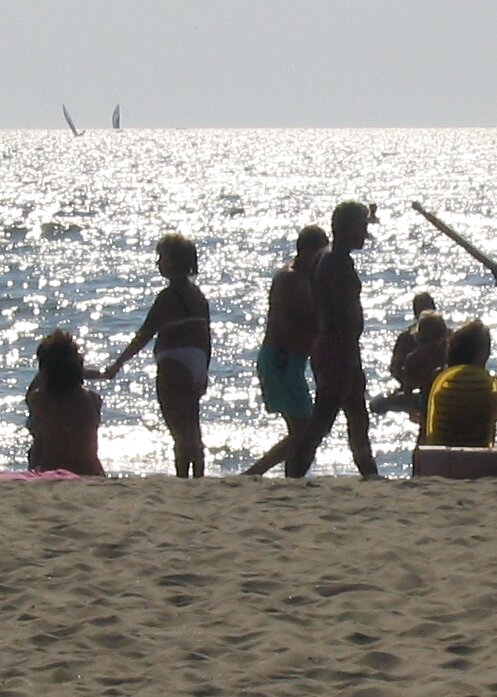person: (302, 200, 403, 493), (108, 228, 218, 476), (254, 220, 341, 477)
